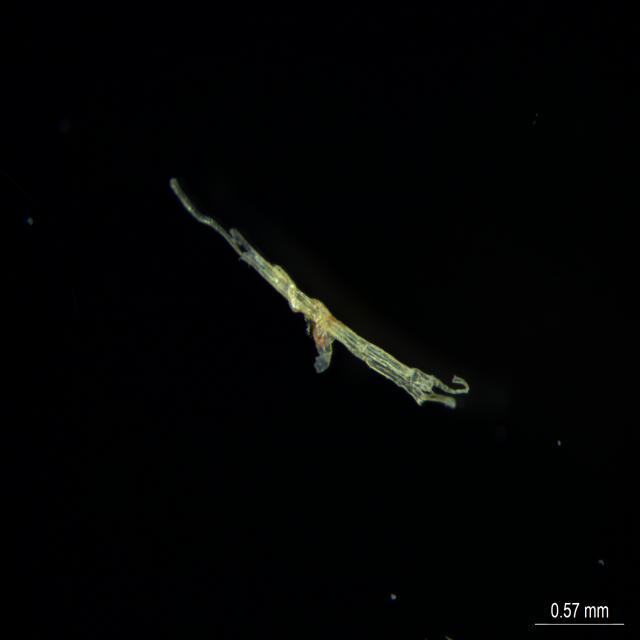fibers: (128, 176, 473, 450)
